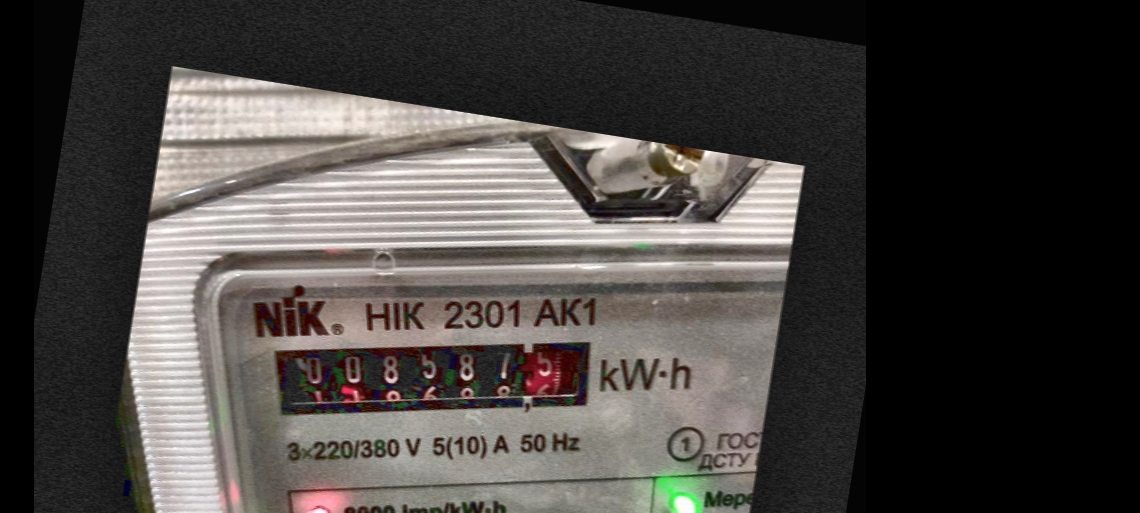0: (337, 349, 368, 386), (299, 351, 330, 386)
5: (415, 348, 443, 382), (531, 344, 558, 378)
6: (533, 379, 553, 399)
7: (491, 346, 518, 383)
8: (452, 347, 480, 384), (377, 351, 406, 386)
screen: (257, 292, 619, 466)
